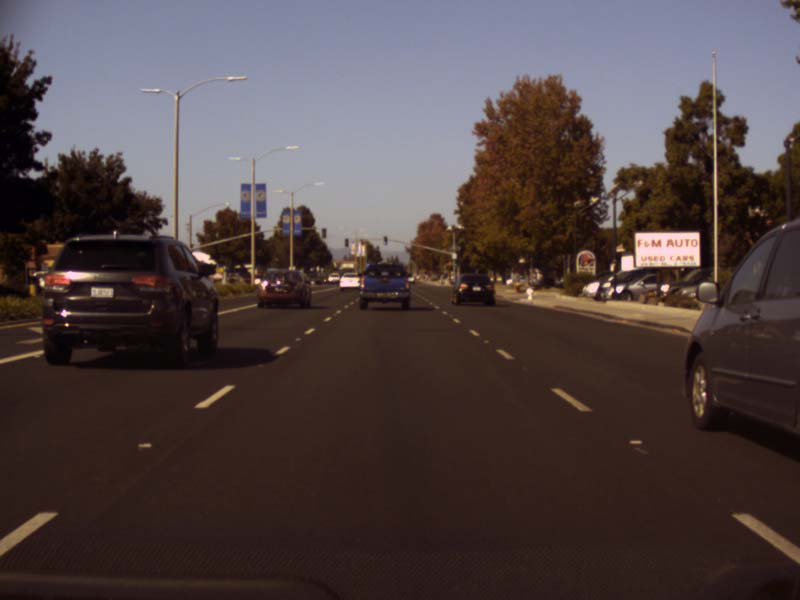Green: (383, 235, 387, 244)
